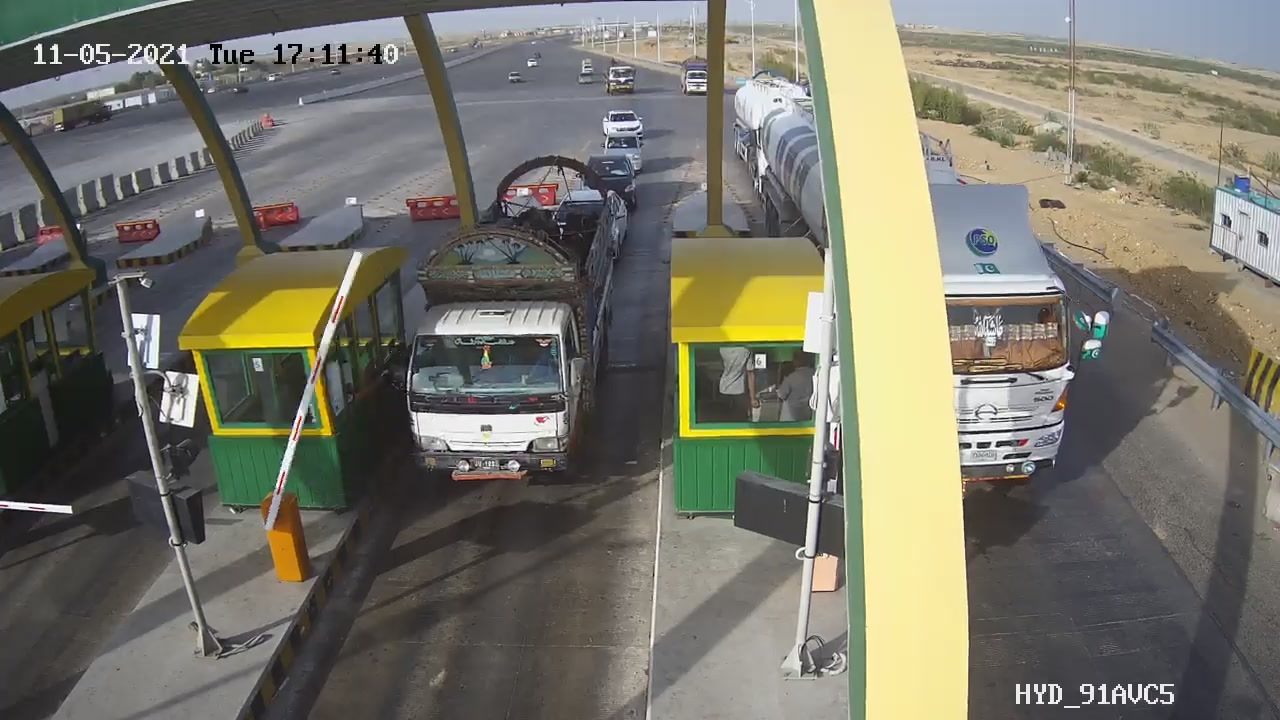F5: (370, 143, 653, 499)
